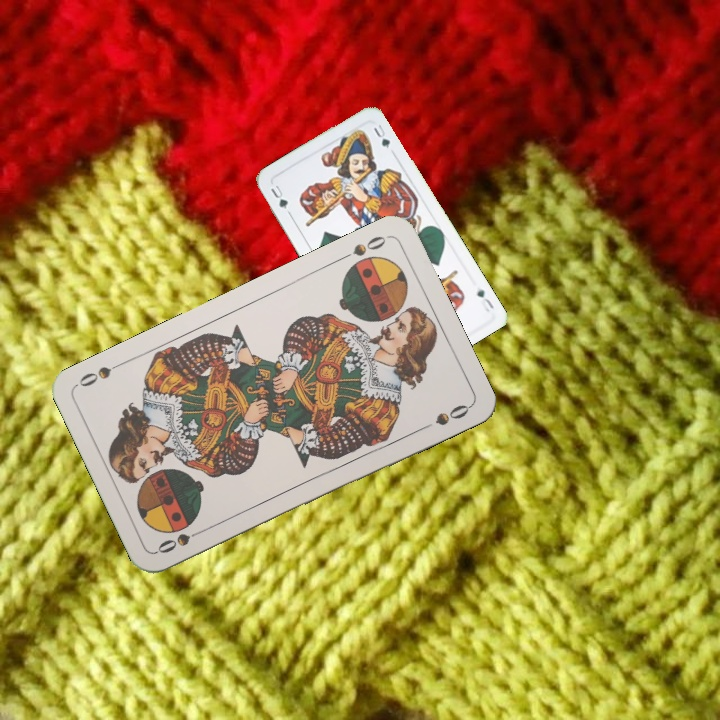GU: (266, 181, 291, 212), (473, 284, 496, 315)
SO: (153, 524, 209, 556), (335, 231, 391, 263)
